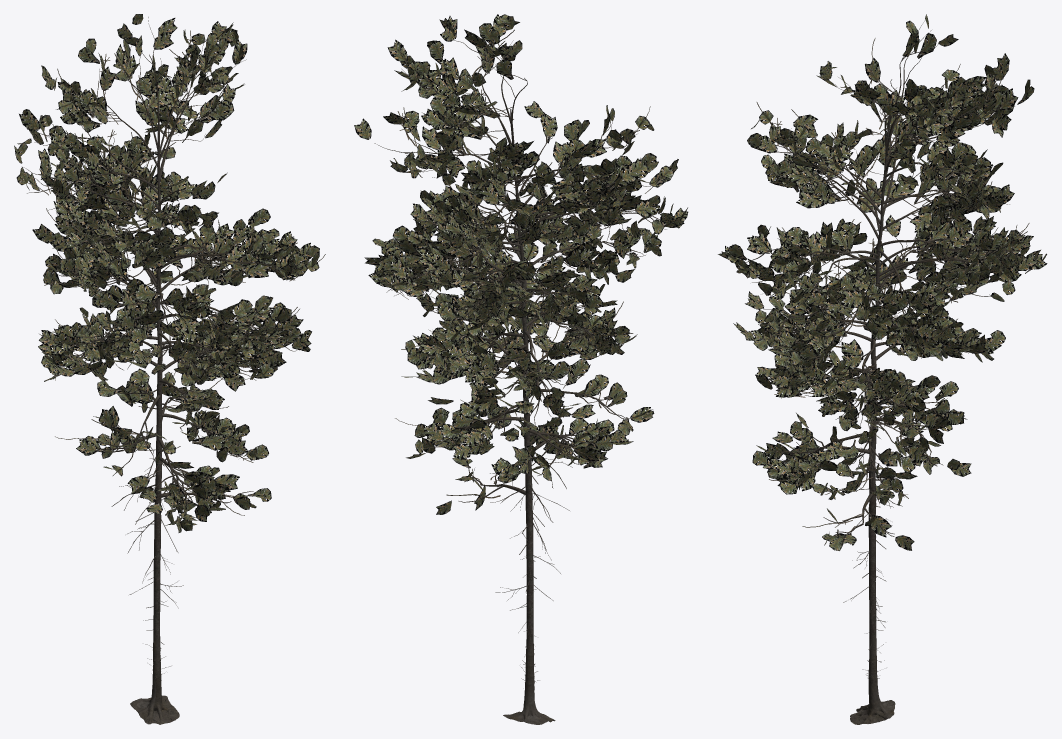
The model's file is pine_a.glb.
3 renders of one model, left to right at view 1: azimuth 30°, elevation 25°; view 2: azimuth 150°, elevation 25°; view 3: azimuth 270°, elevation 25°, orthographic. The views are drawn at different scales.
Visible parts, largest first — view 1: pine_tree_01_a_LOD2; view 2: pine_tree_01_a_LOD2; view 3: pine_tree_01_a_LOD2.
Boxes of the visible parts, <box> form: pine_tree_01_a_LOD2: <box>14,14,325,724</box>; pine_tree_01_a_LOD2: <box>354,14,688,724</box>; pine_tree_01_a_LOD2: <box>718,14,1047,724</box>.
Size of the model in its own units: 7.78 by 20.19 by 8.54.
4 materials, 4 textured.
